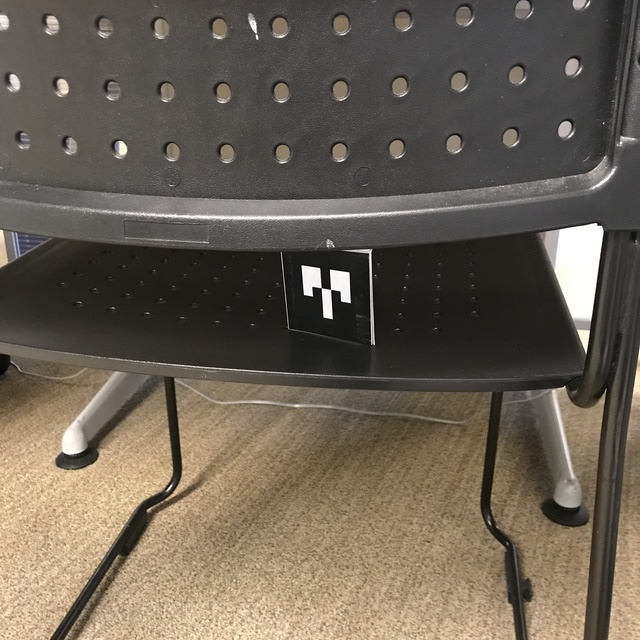ARTag: (279, 242, 375, 346)
